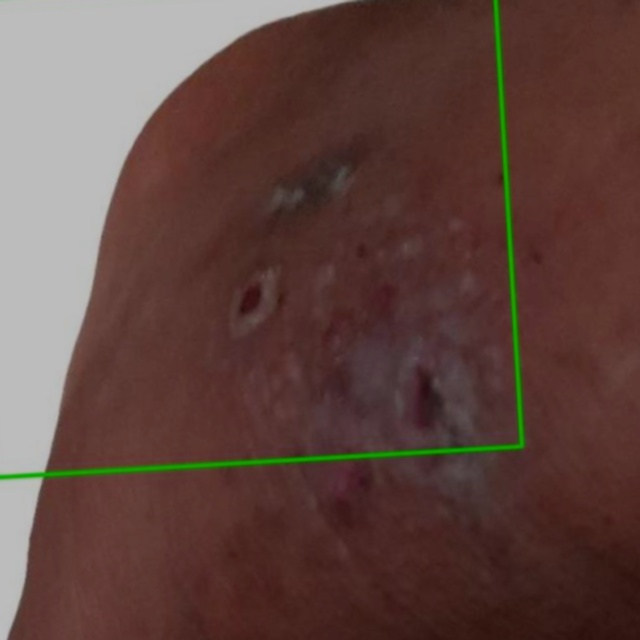Eczema: (0, 0, 521, 477)
